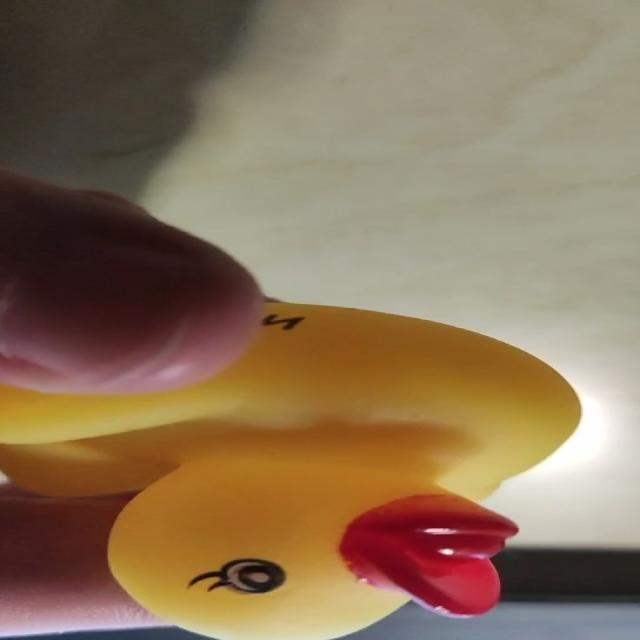rubber-duck: (0, 301, 578, 638)
